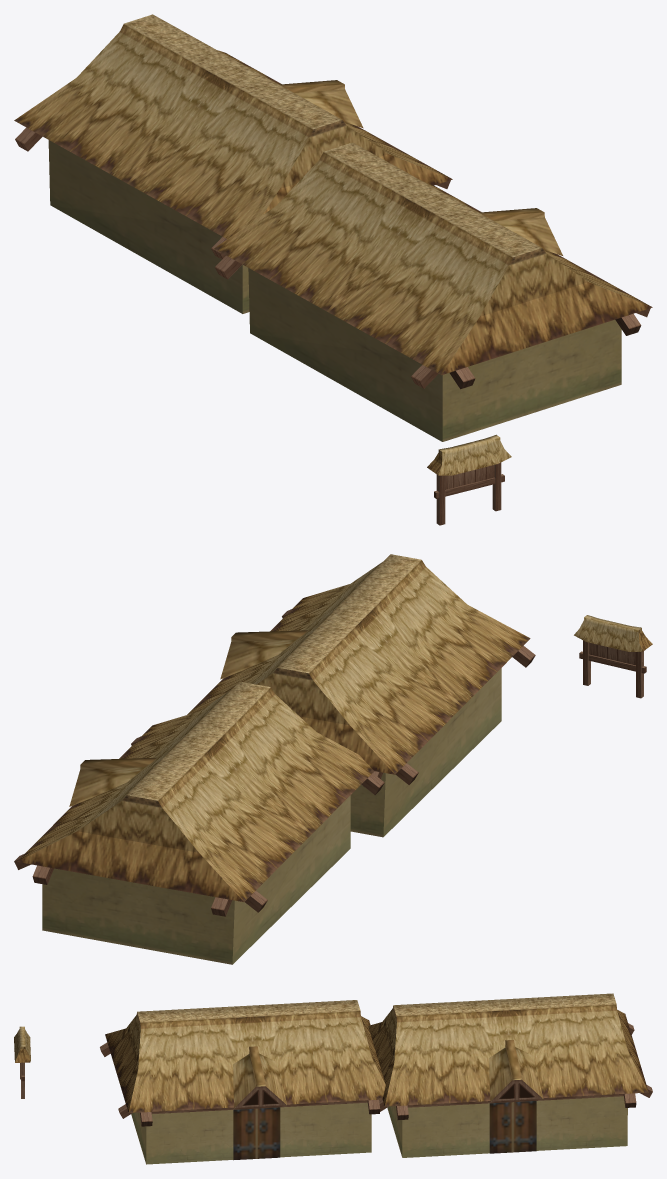
File: Area_09_41.fbx
3 views of the same model, one above another, from view 1: azimuth 30°, elevation 25°; view 2: azimuth 150°, elevation 25°; view 3: azimuth 270°, elevation 25° (orthographic). The views are drawn at different scales.
Parts seen in each view (by area): view 1: Area_09_41; view 2: Area_09_41; view 3: Area_09_41.
Boxes of the visible parts, x1,y1,x2,y2 form: Area_09_41: [14, 14, 652, 525]; Area_09_41: [14, 554, 652, 964]; Area_09_41: [14, 993, 652, 1164].
Size of the model in its own units: 1251 by 665 by 3211.
